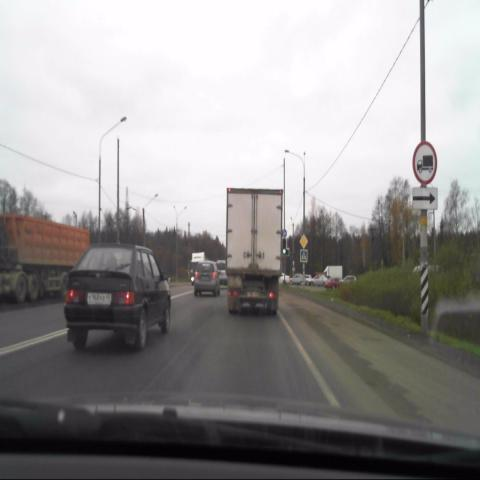8_3_1: (412, 187, 438, 210)
